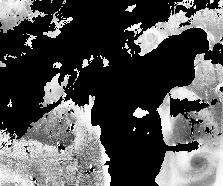CE: (181, 149, 217, 177)
